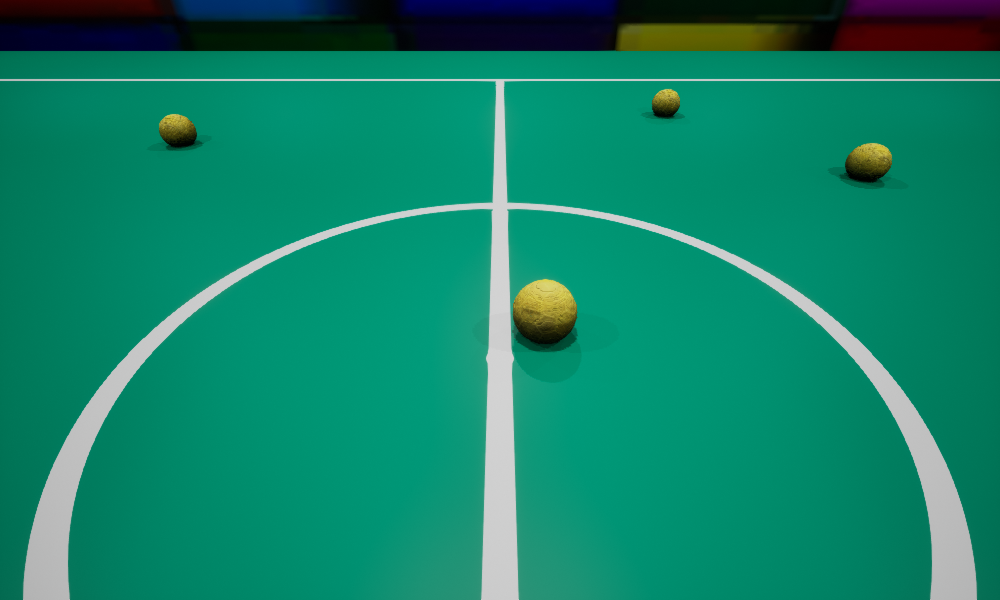b: (513, 279, 577, 343), (845, 143, 891, 181), (159, 114, 196, 146), (652, 89, 679, 116)
